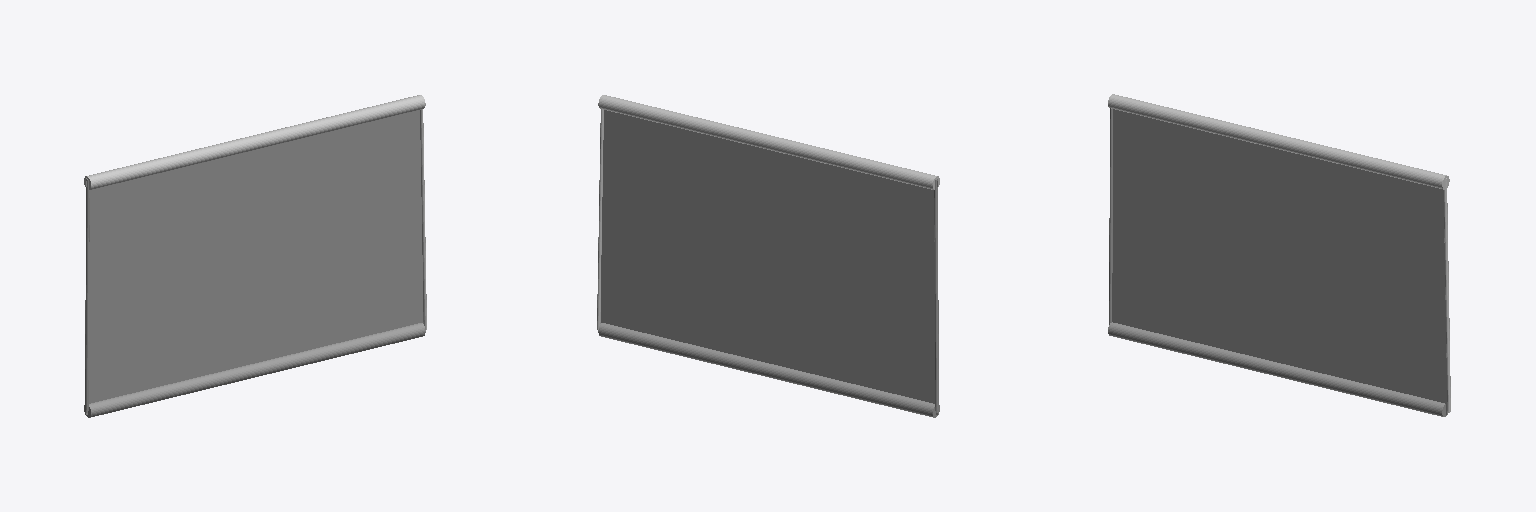
File: Asiafood.obj
3 renders of one model, left to right at view 1: azimuth 30°, elevation 25°; view 2: azimuth 150°, elevation 25°; view 3: azimuth 330°, elevation 25°, orthographic.
Visible parts, largest first — view 1: Plane, Cylinder.001, Cylinder, Cylinder.003, Cylinder.002; view 2: Plane, Cylinder.001, Cylinder, Cylinder.003, Cylinder.002; view 3: Plane, Cylinder.001, Cylinder, Cylinder.002, Cylinder.003.
Part boxes in pixels (bbox=[...]): Plane: bbox=[86, 110, 422, 414]; Cylinder.001: bbox=[84, 95, 425, 189]; Cylinder: bbox=[84, 323, 425, 417]; Cylinder.003: bbox=[85, 178, 89, 412]; Cylinder.002: bbox=[420, 109, 426, 329]; Plane: bbox=[601, 110, 937, 414]; Cylinder.001: bbox=[598, 95, 939, 189]; Cylinder: bbox=[598, 323, 939, 417]; Cylinder.003: bbox=[934, 178, 938, 412]; Cylinder.002: bbox=[597, 109, 603, 329]; Plane: bbox=[1112, 109, 1446, 414]; Cylinder.001: bbox=[1108, 94, 1449, 189]; Cylinder: bbox=[1108, 322, 1447, 416]; Cylinder.002: bbox=[1444, 178, 1450, 412]; Cylinder.003: bbox=[1109, 108, 1112, 324].
Bounding box in the file's own units: 9.15 × 6.17 × 0.3404.